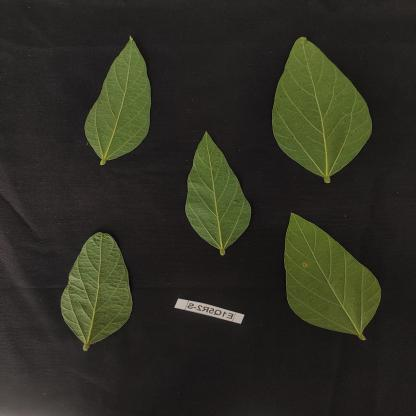label: (170, 296, 256, 327)
leaflets: (268, 31, 378, 189), (279, 216, 396, 349), (70, 27, 160, 188), (169, 122, 251, 262), (48, 235, 141, 356)
